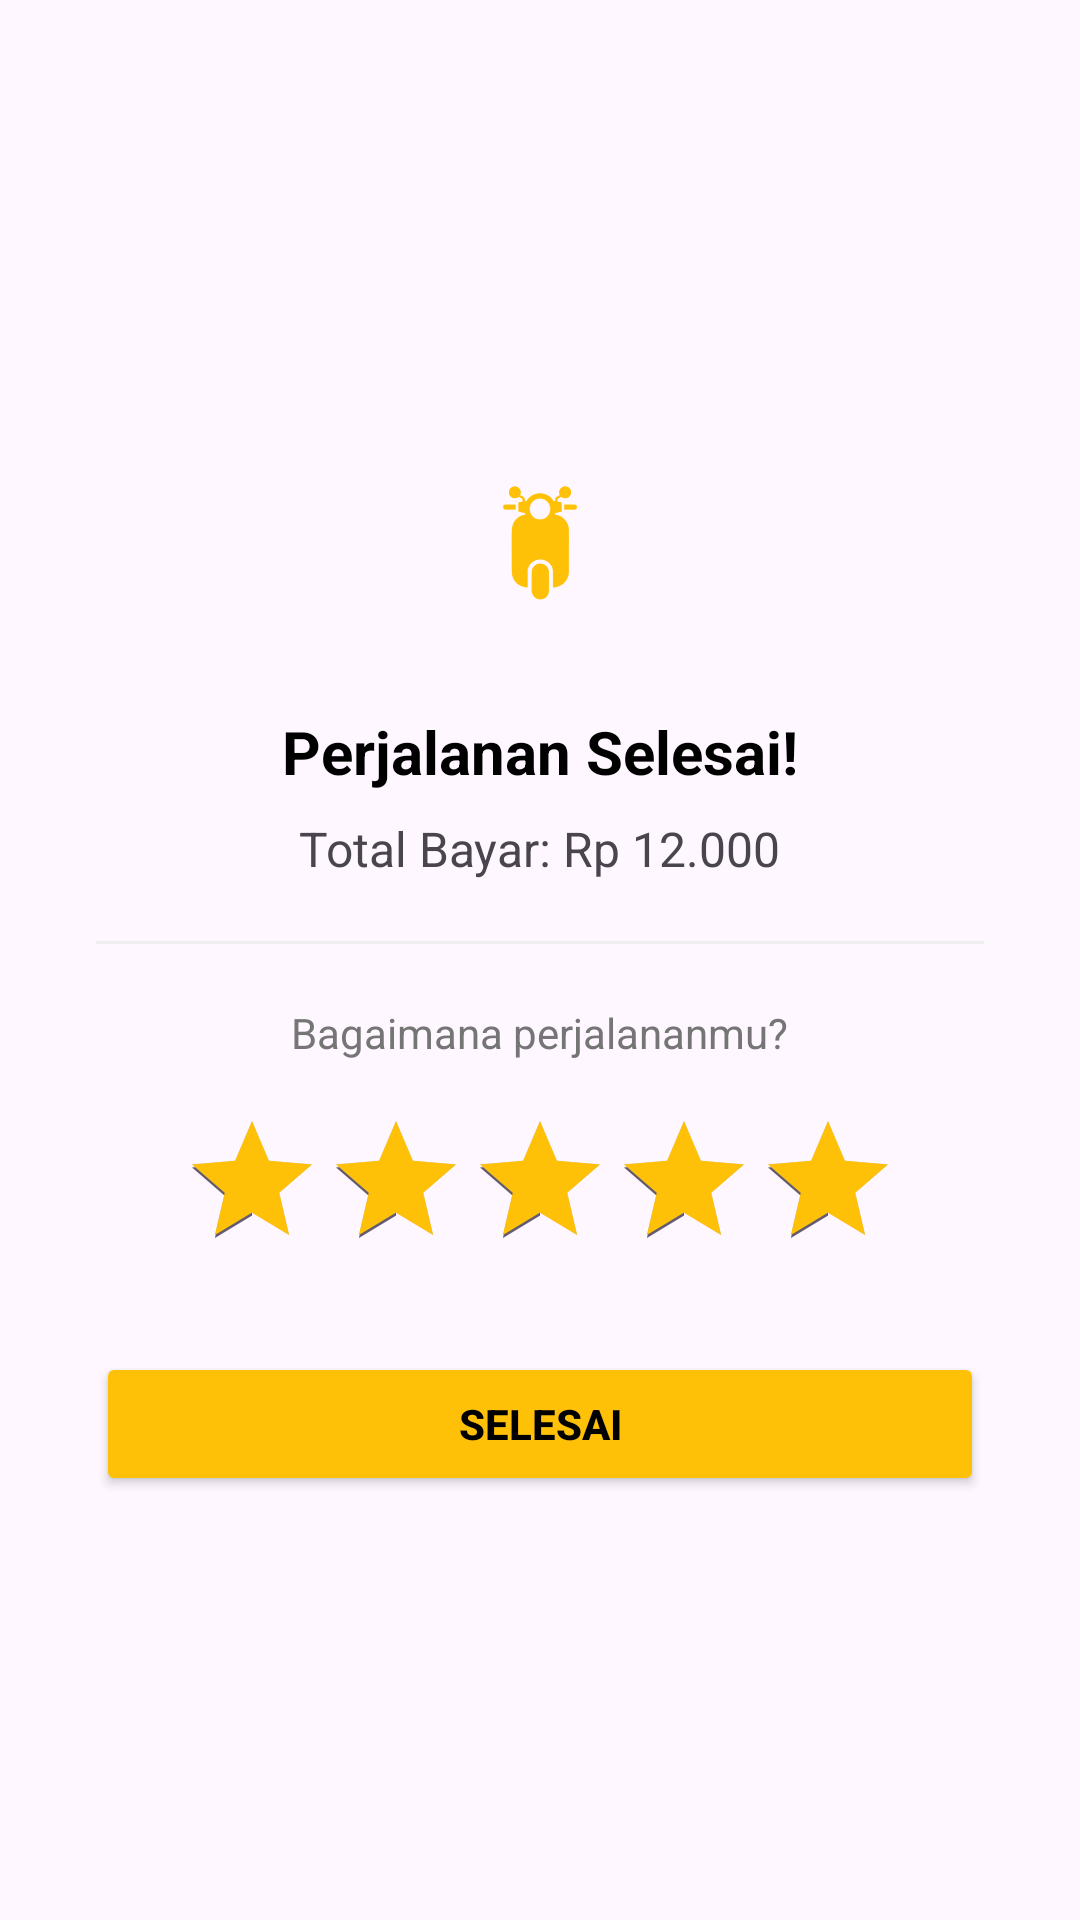

Named icons in this screenshot (1080px x 1920px) and their bounding boxes, {"x1": x1, "y1": y1, "x2": x2, "y2": y2}:
motor baru: {"x1": 503, "y1": 486, "x2": 577, "y2": 600}
